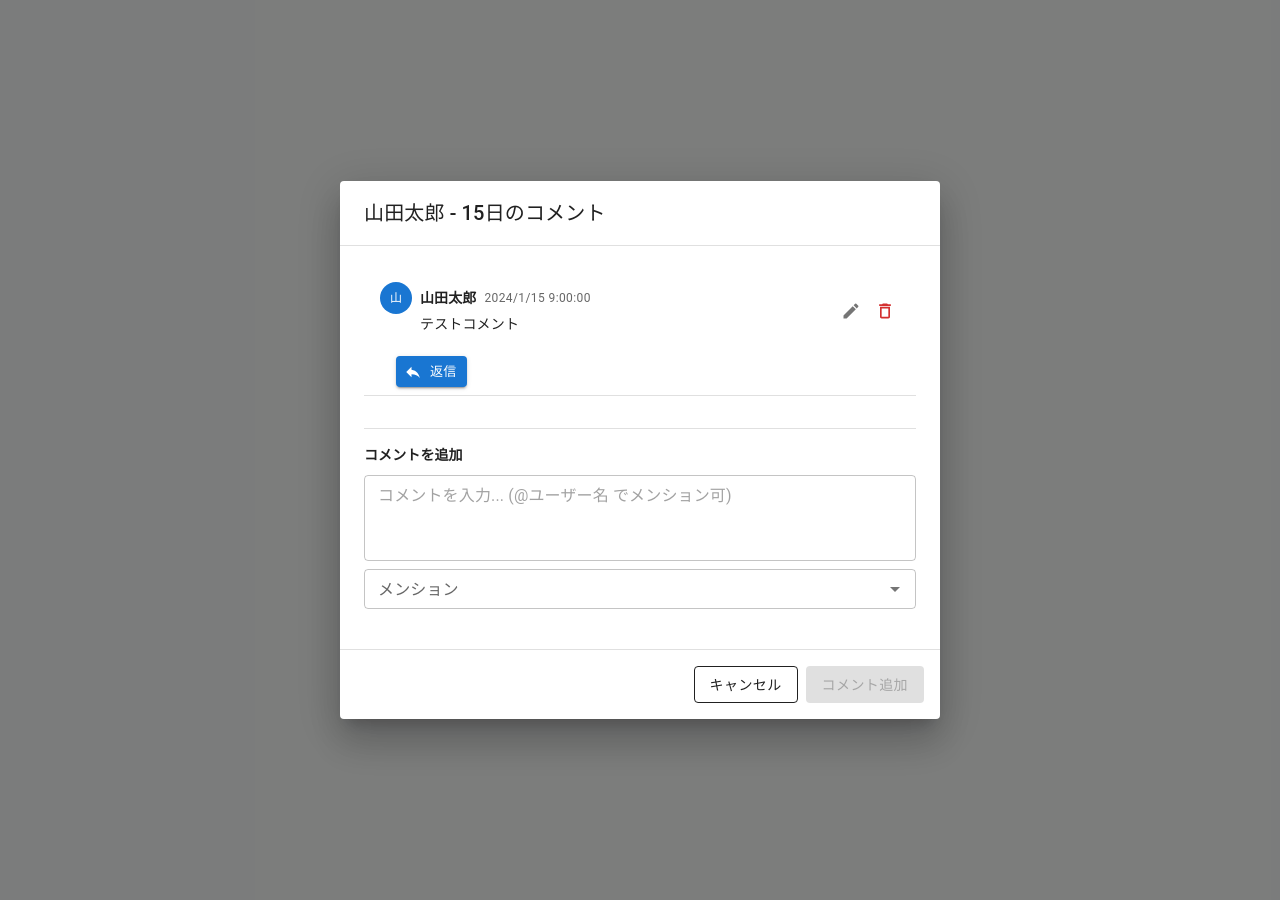
CellCommentDialog › コメント編集 › キャンセルボタンをクリックすると編集フォームが閉じる
The width and height of the screenshot is (1280, 900).
Click the button named "編集".
click(851, 311)  # box left=836, top=296, right=866, bottom=326
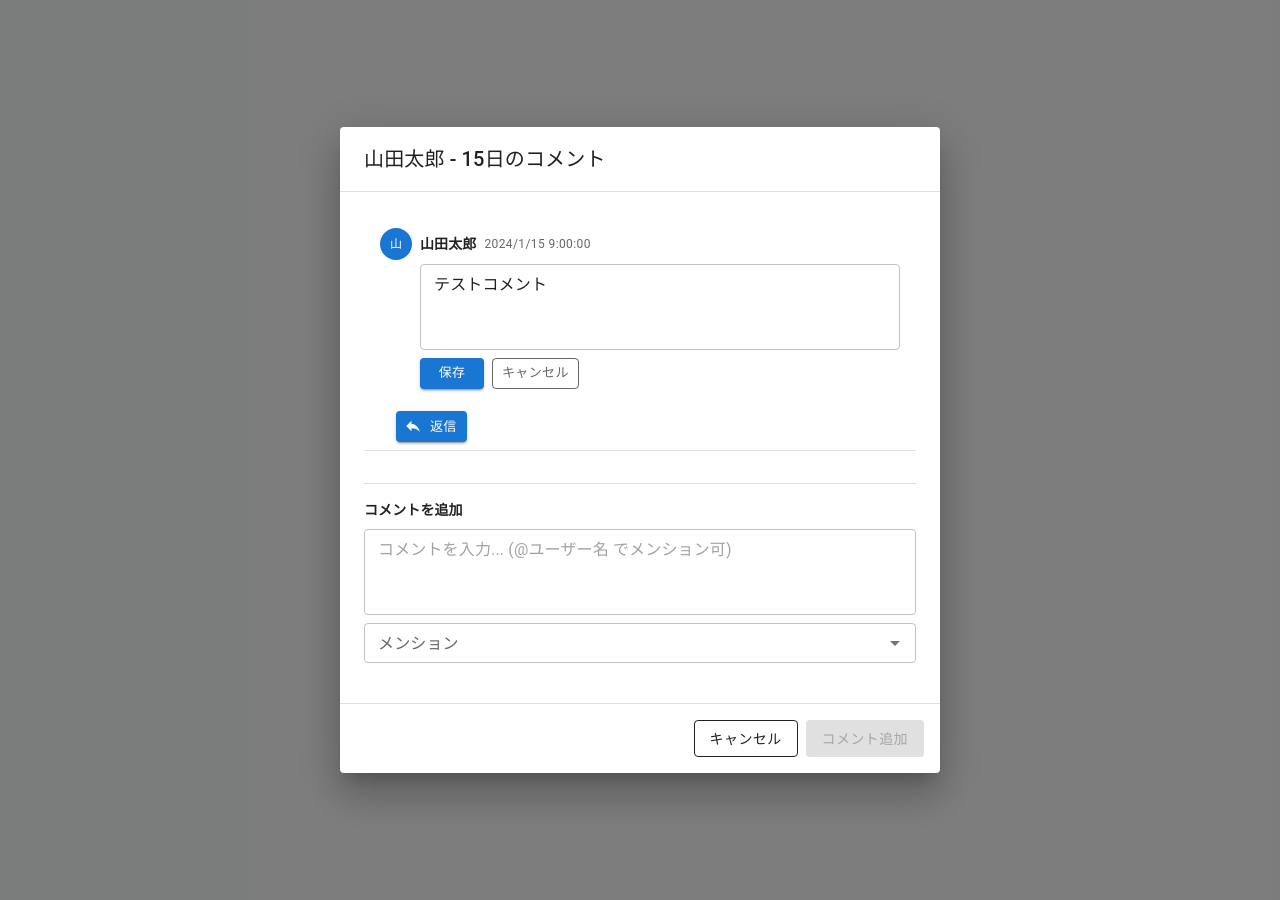
Click the button "キャンセル" below "2024/1/15 9:00:00".
click(535, 373)  # box left=492, top=358, right=579, bottom=389
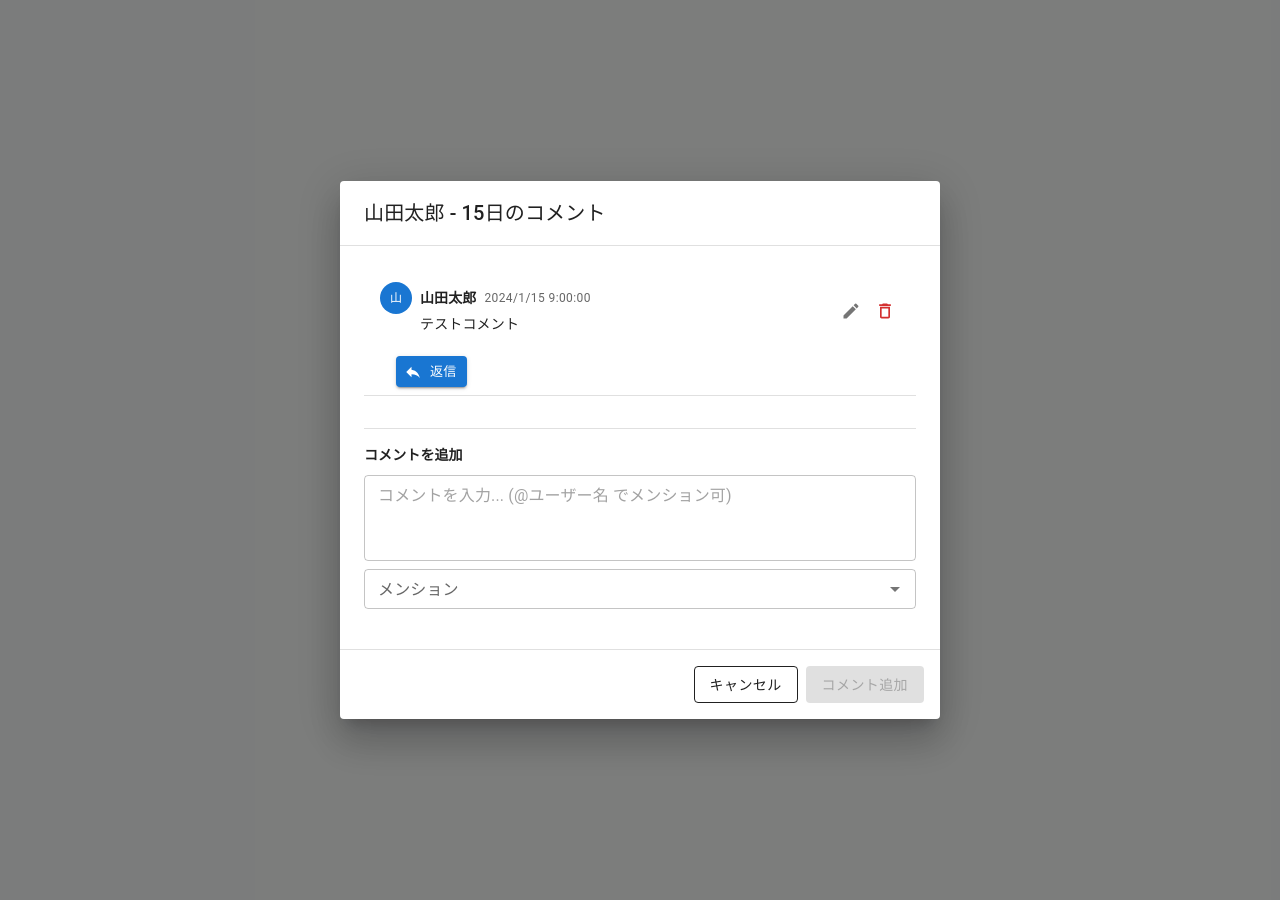
Check: the button "保存" is gone
Check: the text "テストコメント" is shown, box left=420, top=316, right=519, bottom=332
